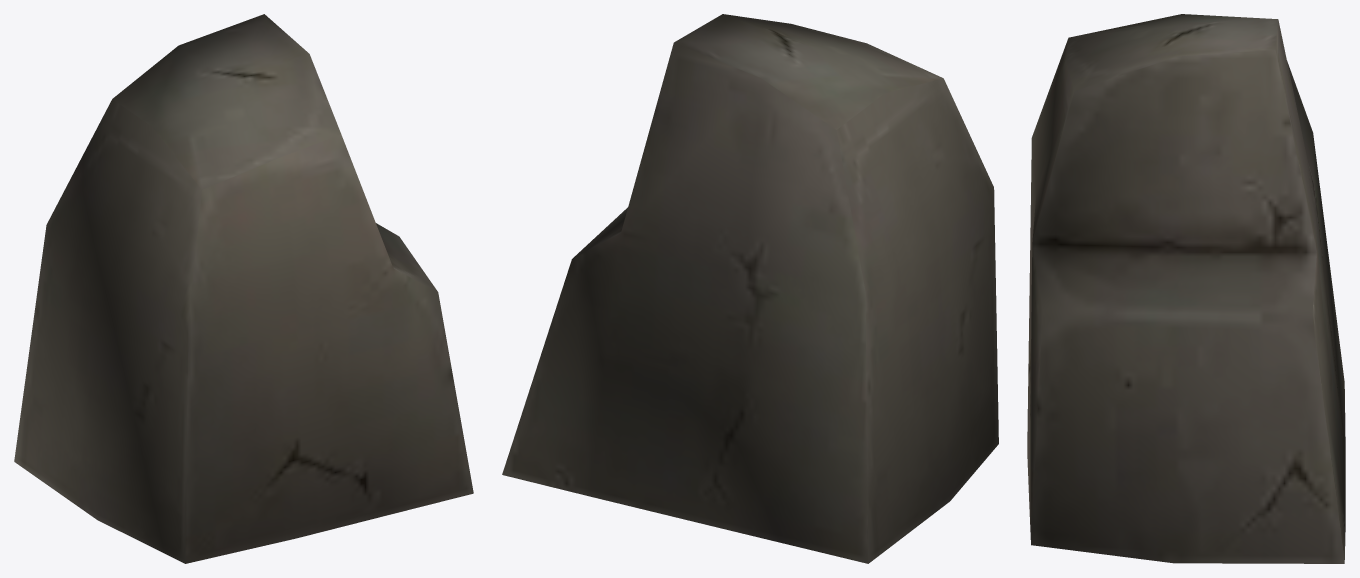
Rendered from rock01-rn5kgkes.glb.
The picture shows the model from 3 angles, left to right: view 1: azimuth 30°, elevation 25°; view 2: azimuth 150°, elevation 25°; view 3: azimuth 270°, elevation 25°; orthographic projection. The views are drawn at different scales.
Parts seen in each view (by area): view 1: rock01; view 2: rock01; view 3: rock01.
Boxes of the visible parts, <box> form: rock01: <box>14,14,473,563</box>; rock01: <box>502,14,998,563</box>; rock01: <box>1027,14,1345,563</box>.
Size of the model in its own units: 1.31 by 1.51 by 0.977.
1 material, 1 textured.
